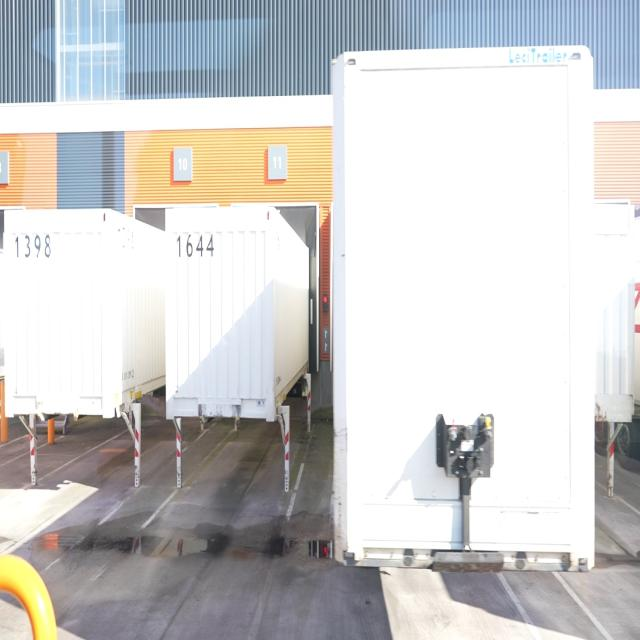Code: (12, 228, 53, 263), (175, 228, 216, 262)
